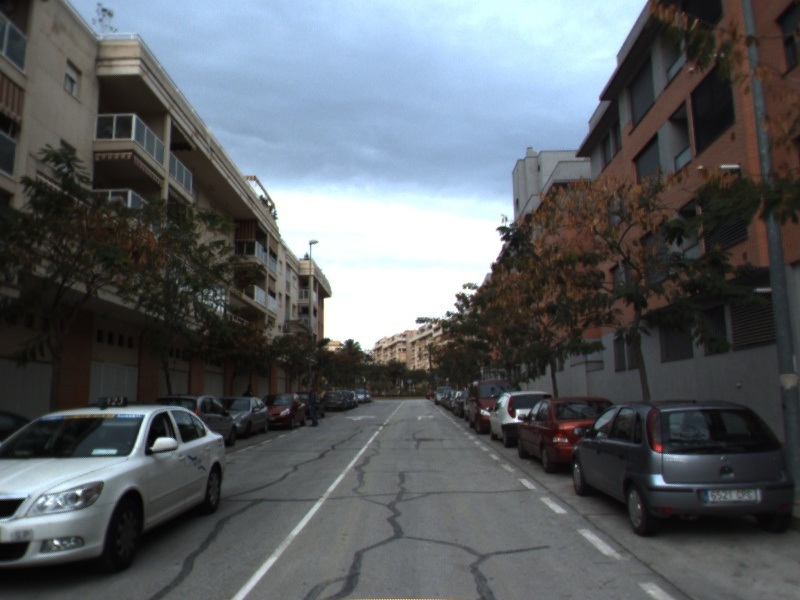RIGHT: (415, 412, 437, 422)
